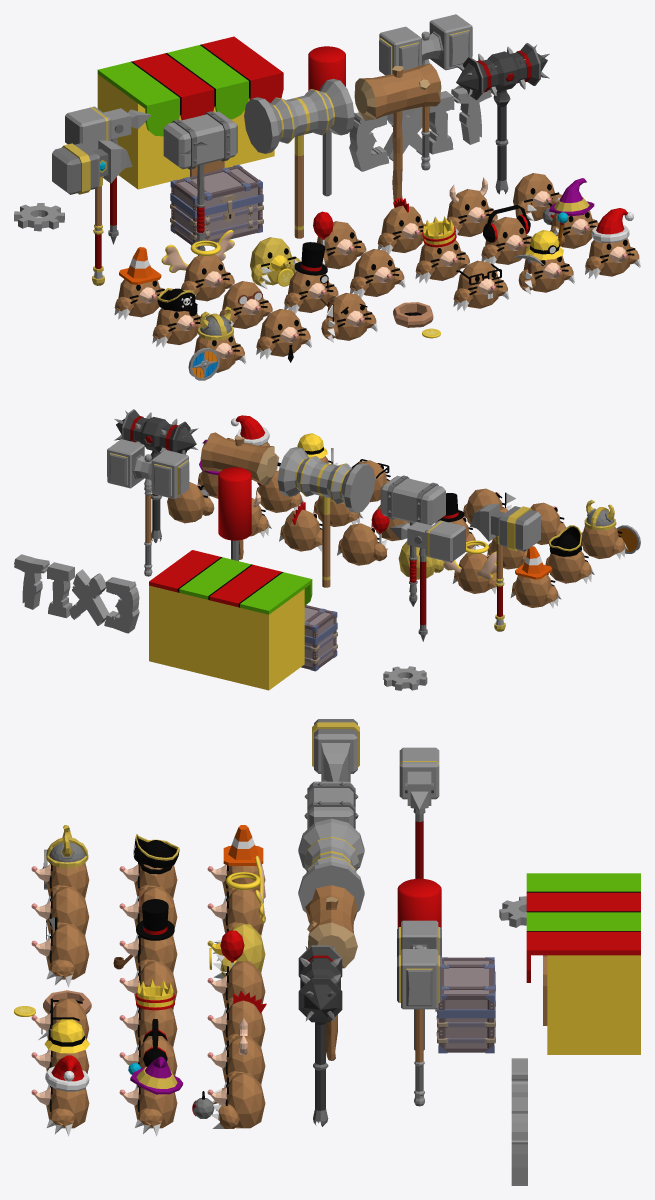
The model's file is Moles and Hammers.glb.
The picture shows the model from 3 angles, top to bottom: view 1: azimuth 30°, elevation 25°; view 2: azimuth 150°, elevation 25°; view 3: azimuth 270°, elevation 25°; orthographic projection. The views are drawn at different scales.
Visible parts, largest first — view 1: market_place, Cilindro.007, Cilindro.021, Cilindro.019, Cilindro.027, Cubo, Cubo.017, Cubo.015, Plano.002, Cubo.034, Cilindro.013, Cubo.061 (+45 smaller); view 2: market_place, Cilindro.007, Cilindro.021, Cilindro.019, Cubo, Cilindro.013, Cilindro.027, Cubo.017, Cubo.015, Plano.002, Plano.003, Body.011 (+29 smaller); view 3: market_place, Cilindro.007, Cilindro.021, Cilindro.027, Cilindro.019, Cubo, Cubo.015, Cilindro.013, Cubo.061, Body.018, Body.002, Cubo.017 (+29 smaller).
Boxes of the visible parts, x1=… form: market_place: x1=97, y1=36, x2=283, y2=189; Cilindro.007: x1=244, y1=78, x2=354, y2=153; Cilindro.021: x1=379, y1=14, x2=472, y2=75; Cilindro.019: x1=354, y1=63, x2=441, y2=120; Cilindro.027: x1=454, y1=43, x2=549, y2=100; Cubo: x1=52, y1=140, x2=132, y2=194; Cubo.017: x1=163, y1=111, x2=237, y2=169; Cubo.015: x1=65, y1=106, x2=151, y2=150; Plano.002: x1=349, y1=112, x2=388, y2=171; Cubo.034: x1=171, y1=201, x2=262, y2=244; Cilindro.013: x1=308, y1=46, x2=345, y2=90; Cubo.061: x1=175, y1=168, x2=257, y2=208; market_place: x1=149, y1=550, x2=312, y2=690; Cilindro.007: x1=277, y1=447, x2=374, y2=512; Cilindro.021: x1=107, y1=439, x2=189, y2=499; Cilindro.019: x1=200, y1=432, x2=279, y2=485; Cubo: x1=470, y1=503, x2=540, y2=551; Cilindro.013: x1=218, y1=467, x2=251, y2=540; Cilindro.027: x1=114, y1=409, x2=198, y2=454; Cubo.017: x1=380, y1=475, x2=445, y2=525; Cubo.015: x1=389, y1=520, x2=465, y2=562; Plano.002: x1=104, y1=577, x2=139, y2=633; Plano.003: x1=69, y1=569, x2=108, y2=625; Body.011: x1=340, y1=523, x2=377, y2=565; market_place: x1=526, y1=873, x2=640, y2=1054; Cilindro.007: x1=298, y1=818, x2=364, y2=912; Cilindro.021: x1=397, y1=920, x2=441, y2=1009; Cilindro.027: x1=298, y1=945, x2=342, y2=1022; Cilindro.019: x1=305, y1=885, x2=357, y2=968; Cubo: x1=312, y1=719, x2=359, y2=782; Cubo.015: x1=399, y1=747, x2=439, y2=809; Cilindro.013: x1=397, y1=878, x2=441, y2=928; Cubo.061: x1=444, y1=960, x2=488, y2=1009; Body.018: x1=225, y1=1073, x2=265, y2=1128; Body.002: x1=46, y1=924, x2=89, y2=979; Cubo.017: x1=309, y1=781, x2=353, y2=827.
Bounding box in the file's own units: 30.9 × 10.32 × 28.48.
1 material, 1 textured.
